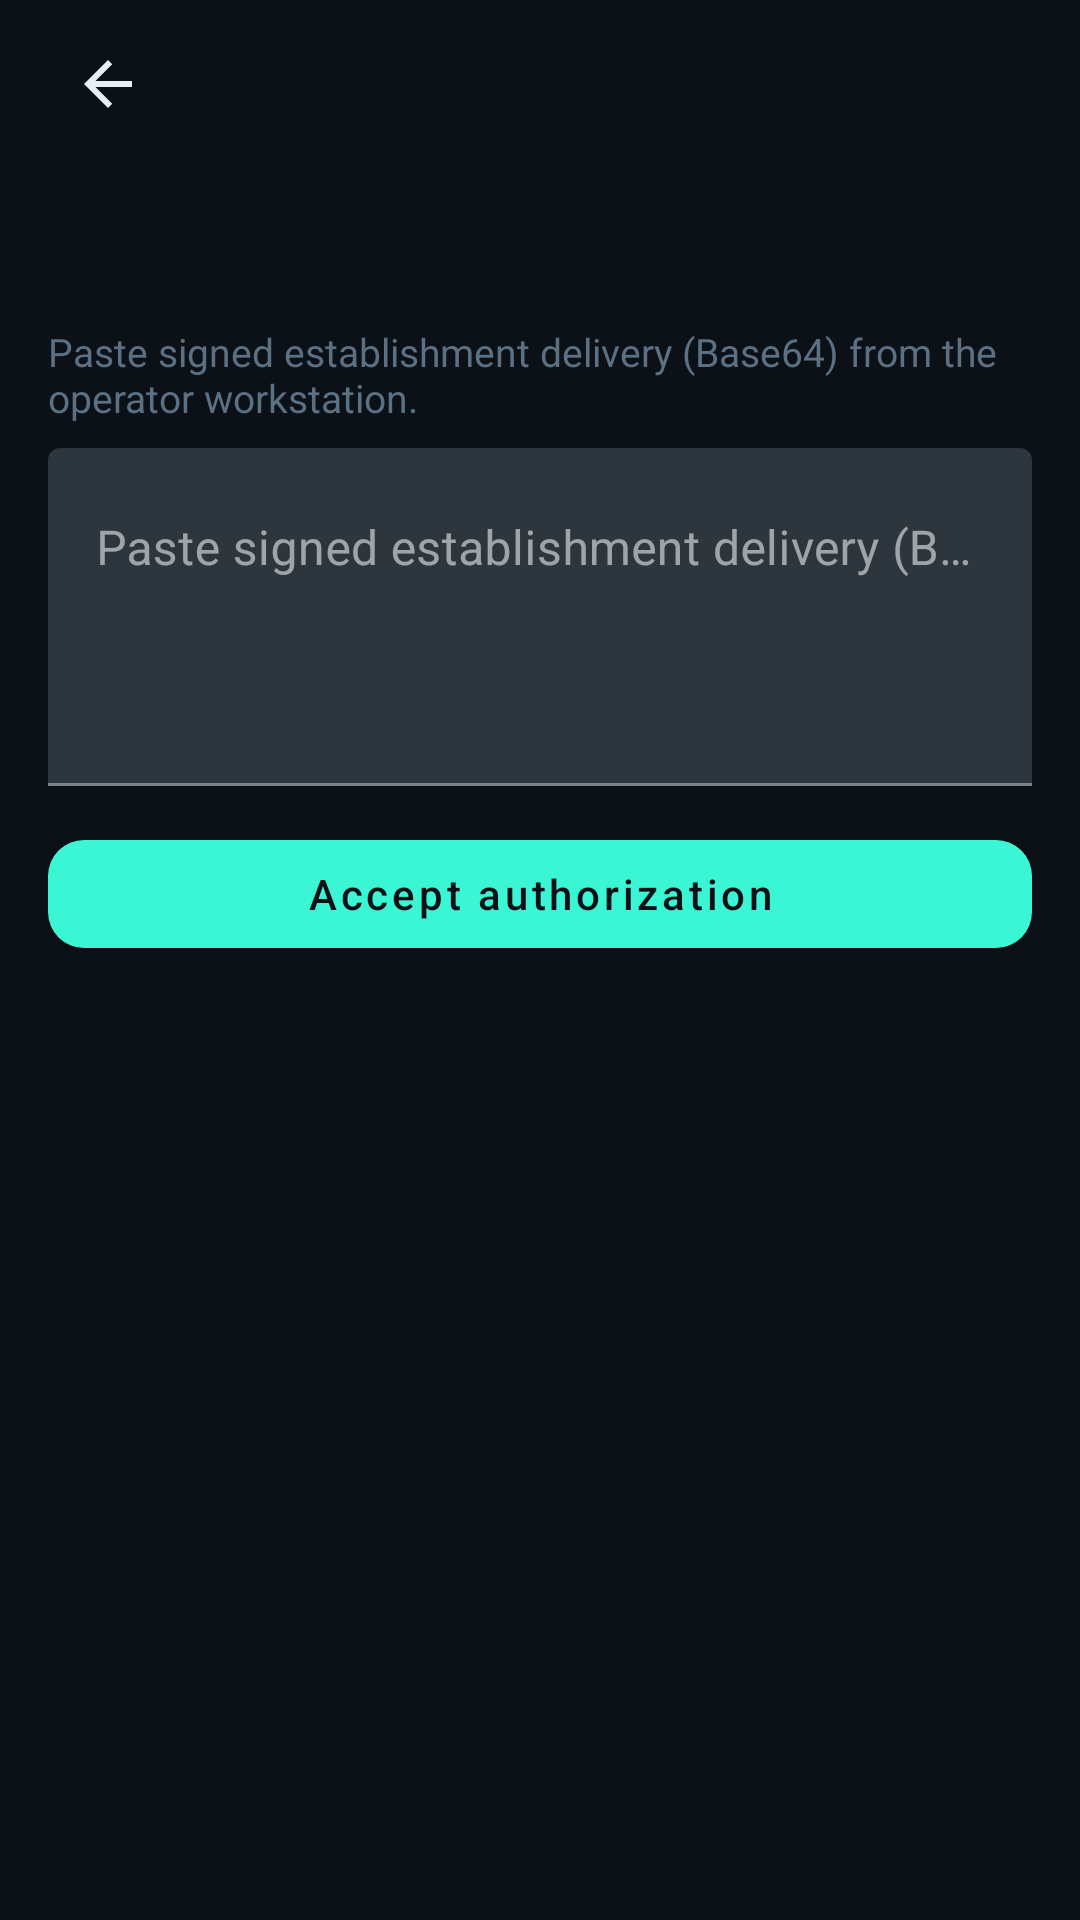

Icon click points for this 1080px x 1920px phone screenshot, format (x=x, y=y):
Back: (x=108, y=84)
